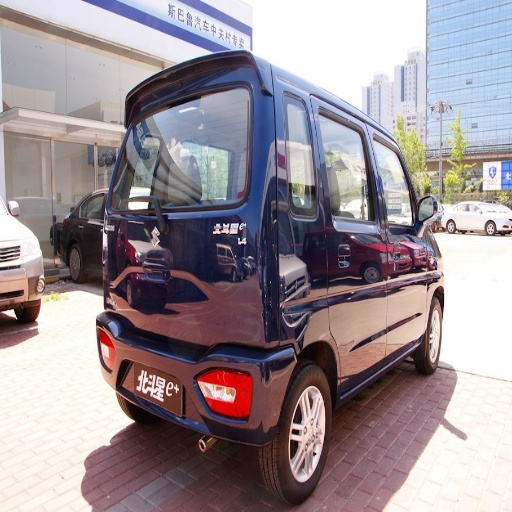back_bumper: (103, 358, 272, 439)
back_glass: (154, 80, 245, 200)
back_right_door: (285, 99, 385, 382)
tailgate: (130, 107, 171, 177)
trunk: (116, 217, 260, 415), (289, 269, 324, 329)
